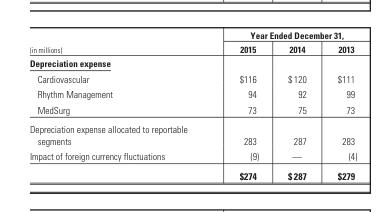table: (28, 28, 356, 180)
table column: (28, 28, 212, 180), (212, 28, 272, 180), (272, 28, 321, 180), (321, 28, 356, 180)
table column header: (28, 28, 356, 55)
table projected row header: (28, 55, 356, 70)
table row: (28, 118, 356, 148), (28, 101, 356, 118), (28, 148, 356, 165), (28, 70, 356, 86), (28, 55, 356, 70), (28, 86, 356, 101), (28, 165, 356, 180), (28, 41, 356, 55), (28, 28, 356, 41)
table spanning cell: (28, 28, 212, 55), (212, 28, 356, 41)
